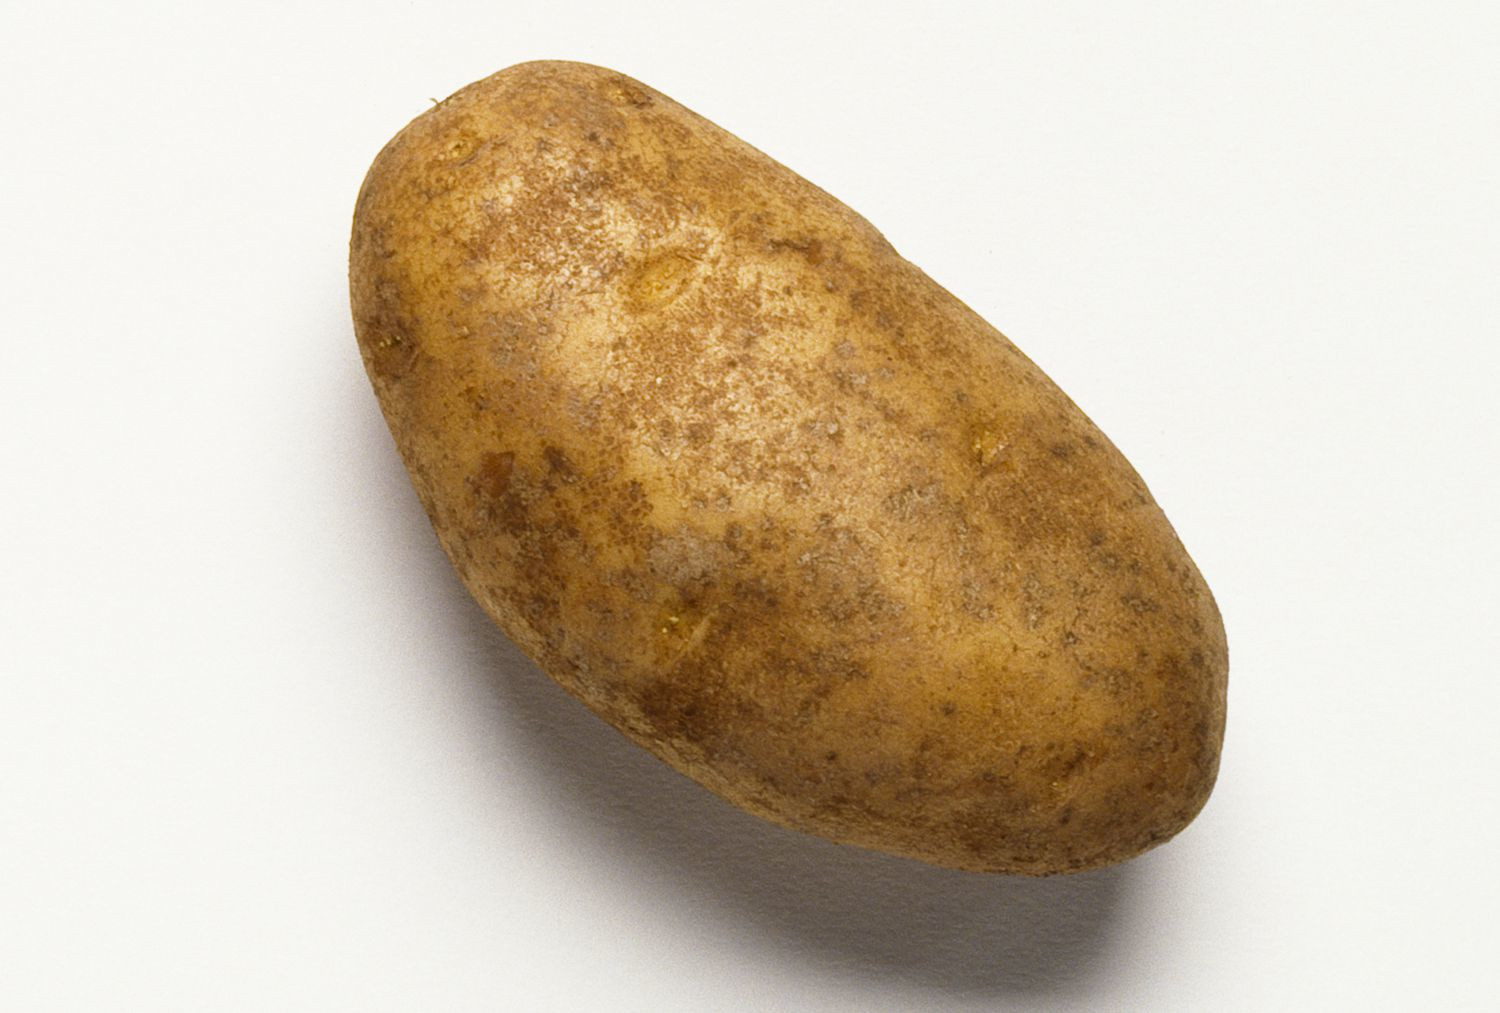potato: (344, 55, 1238, 883)
